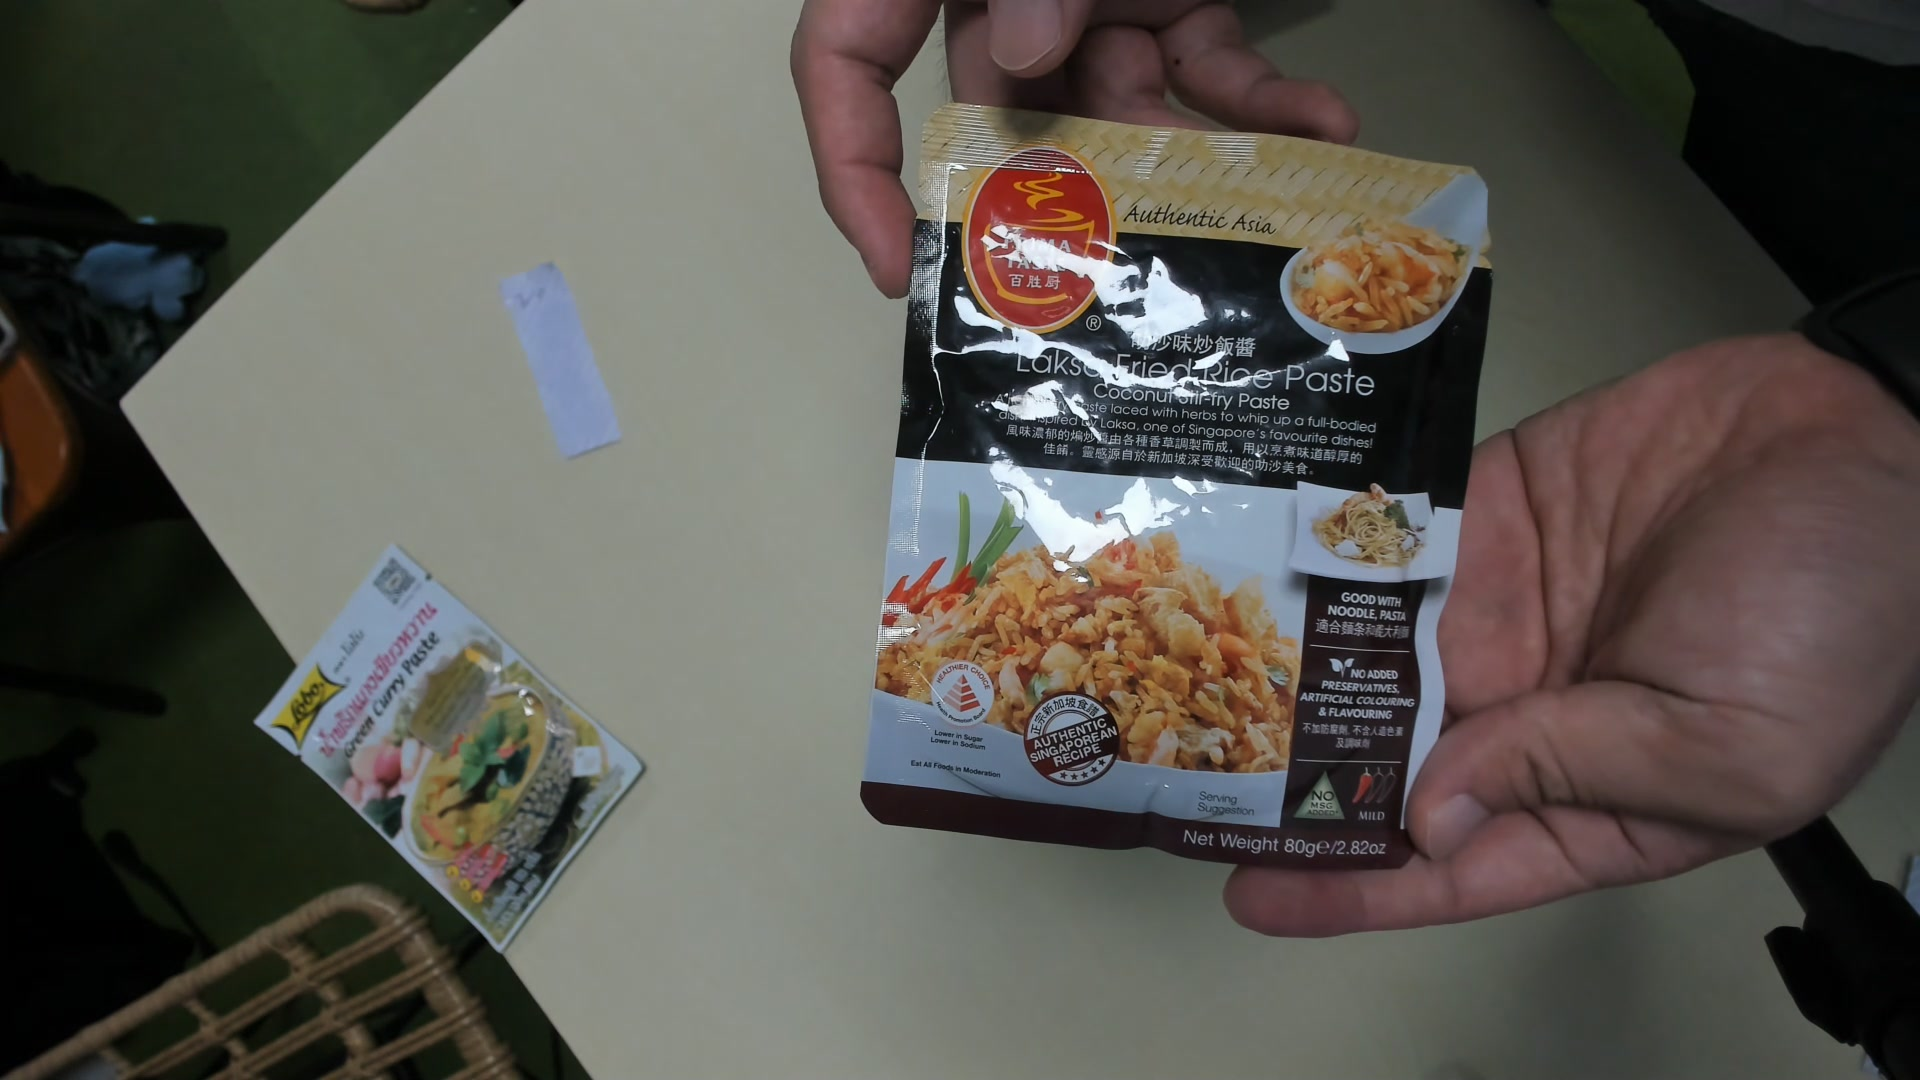OtherSauceDressing_0-99g_Halal_NonHealthy: (858, 107, 1491, 872)
